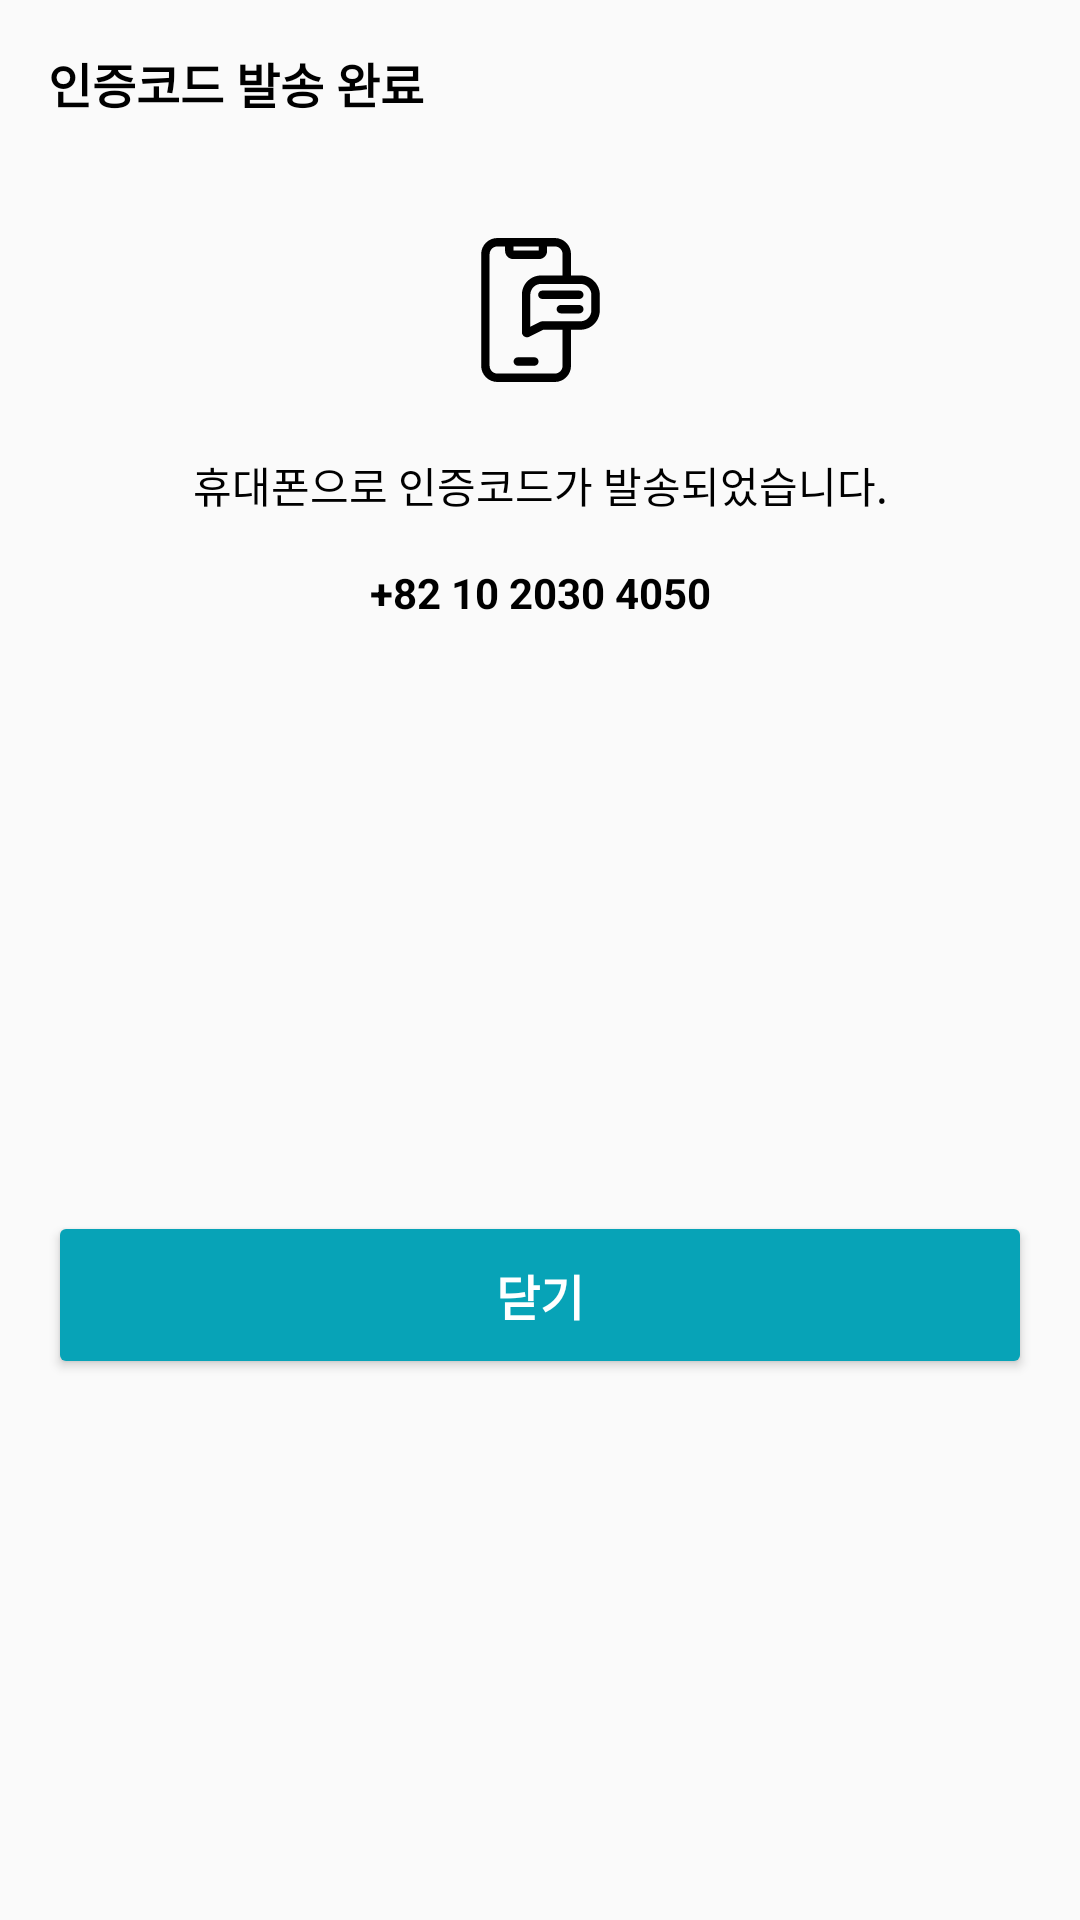

Locate icon controls on the screen. Image size 1080×1920, boxes as [x1,y1,x2,y2].
join phone alert: [481,238,600,382]
